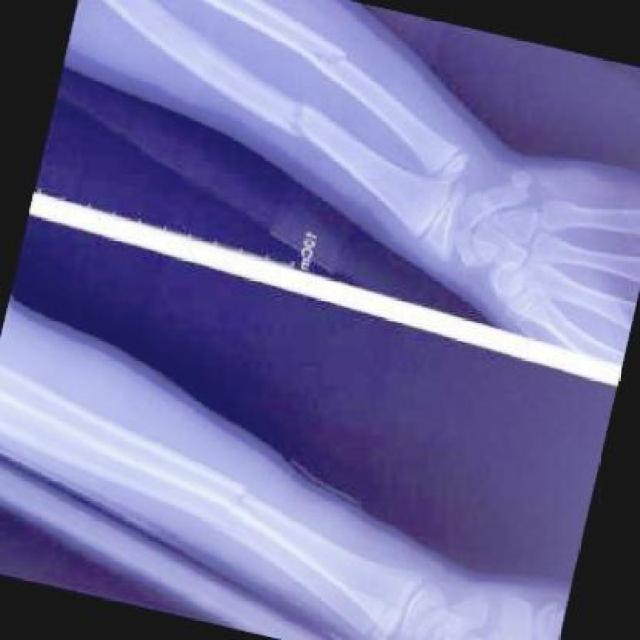Fracture: (302, 33, 365, 93), (279, 83, 327, 145), (220, 479, 268, 524), (198, 496, 238, 539)
